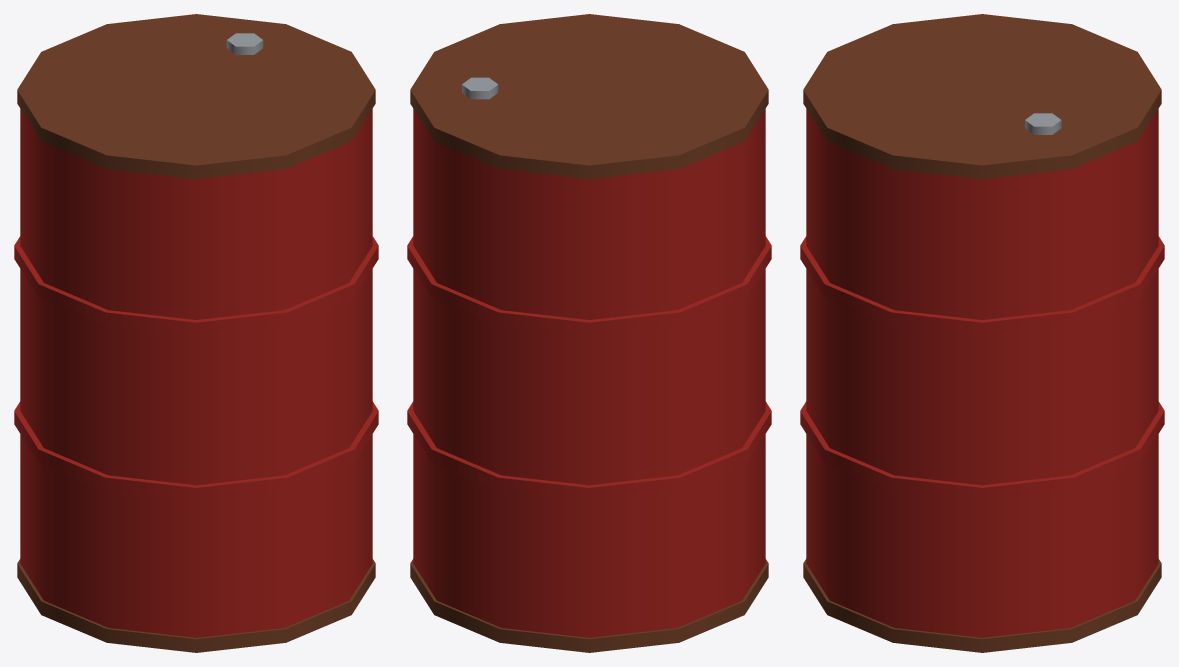
The model's file is oil_drum.glb.
3 views of the same model, side by side, from view 1: azimuth 30°, elevation 25°; view 2: azimuth 150°, elevation 25°; view 3: azimuth 270°, elevation 25° (orthographic).
Parts seen in each view (by area): view 1: oil_drum; view 2: oil_drum; view 3: oil_drum.
Boxes of the visible parts, x1,y1,x2,y2 form: oil_drum: (14, 14, 378, 652); oil_drum: (407, 14, 771, 652); oil_drum: (800, 14, 1164, 652).
Bounding box in the file's own units: 0.6 × 0.9 × 0.6.
1 material, 1 textured.
